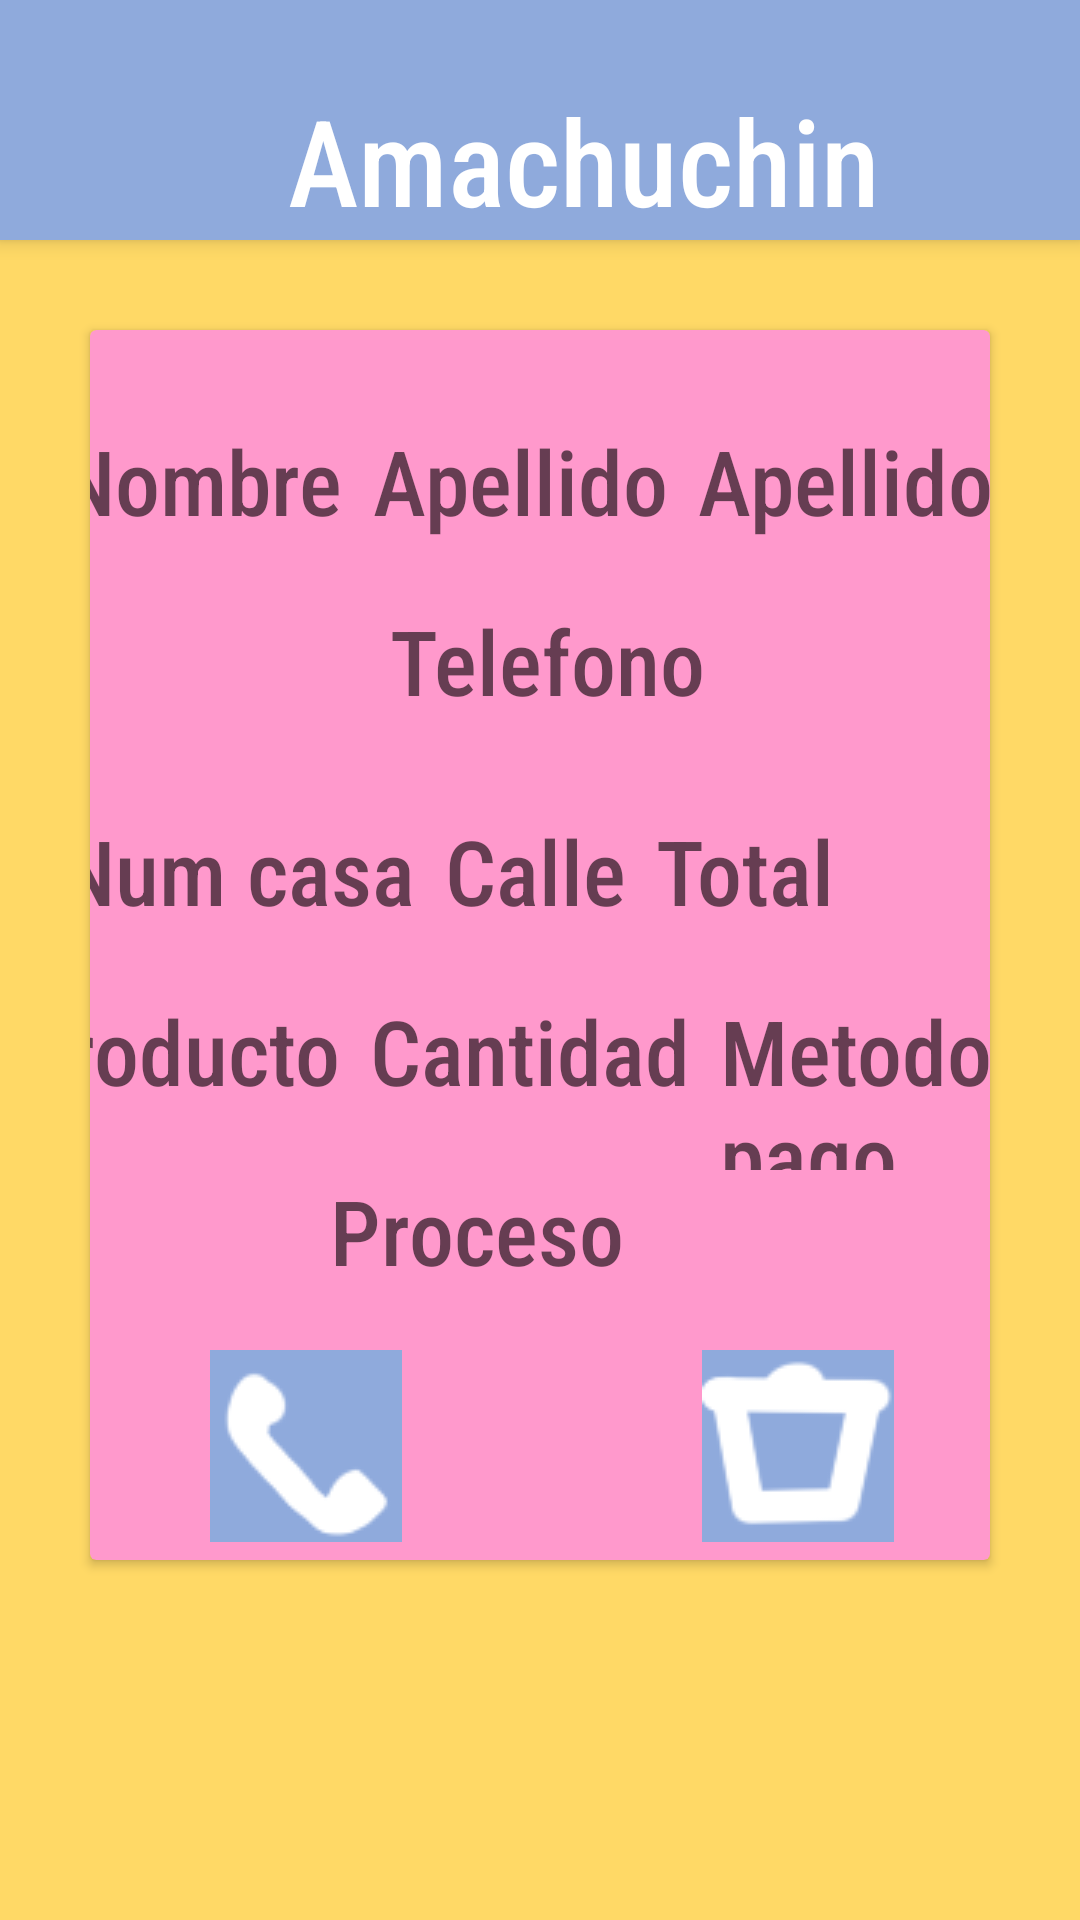

Named icons in this screenshot (1080px x 1920px) and their bounding boxes, {"x1": x1, "y1": y1, "x2": x2, "y2": y2}:
basurerito: {"x1": 702, "y1": 1350, "x2": 894, "y2": 1542}
llamamdmam: {"x1": 210, "y1": 1350, "x2": 402, "y2": 1542}
